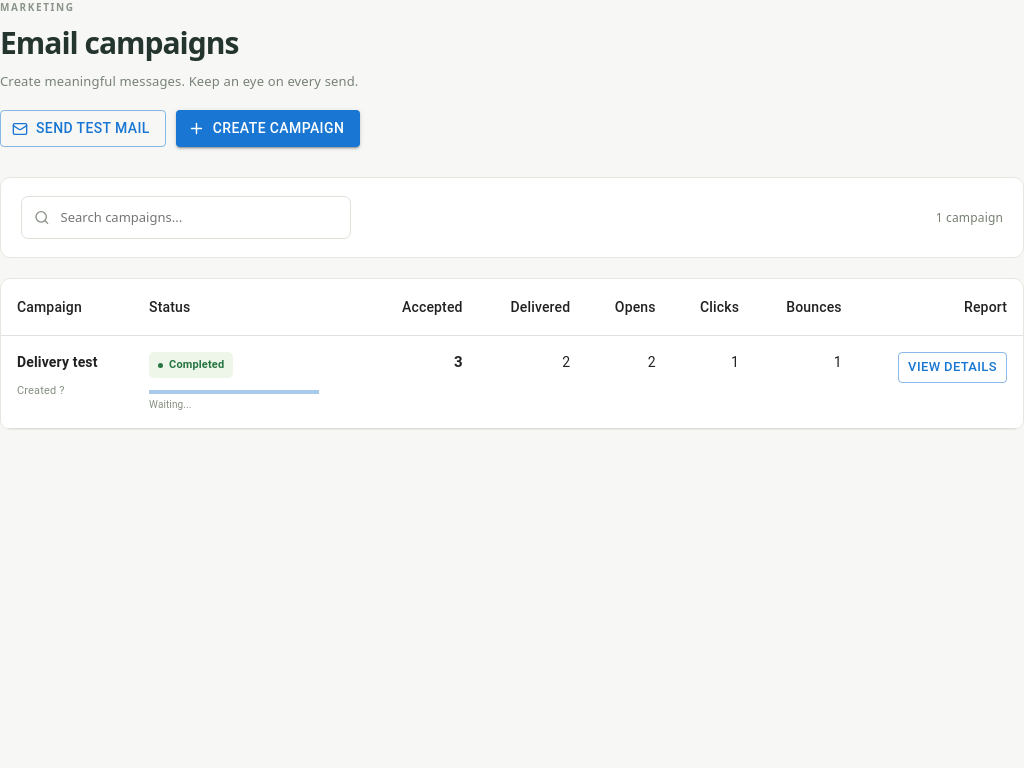
Scenario: campaign reports show real delivery metrics, SMTP reasons, and the privacy limitation
Click the button "View Details". click: click(953, 368)
box: [898,352,1007,383]
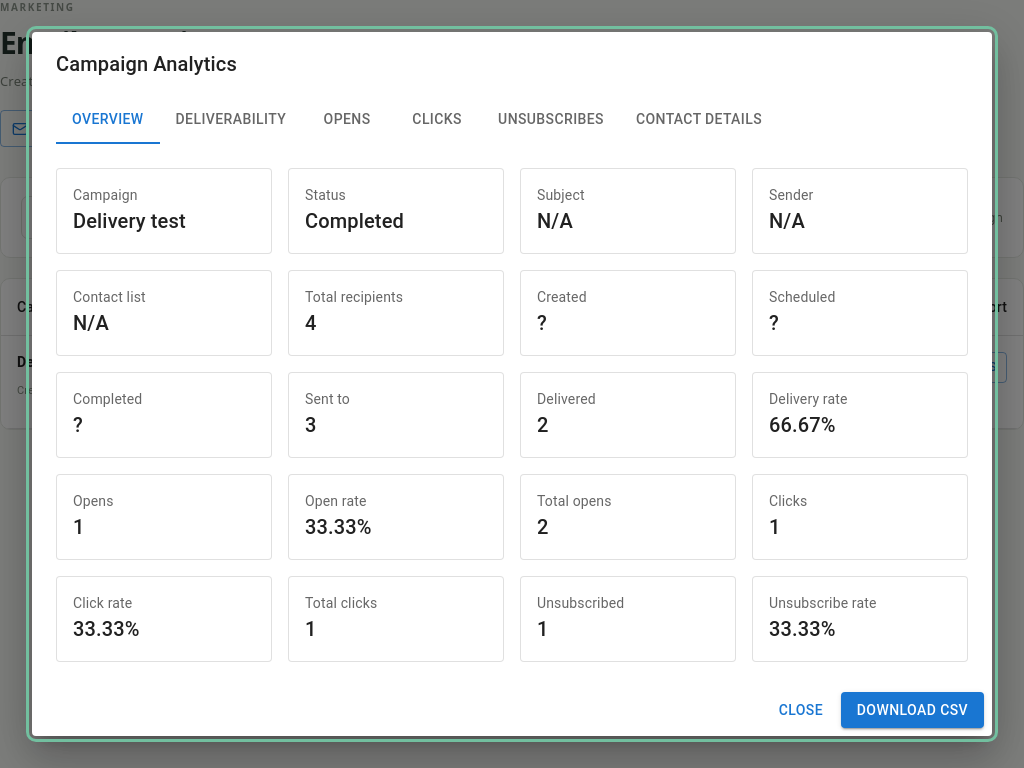
Click the tab "Opens". click: click(347, 120)
box: [302,96,392,144]
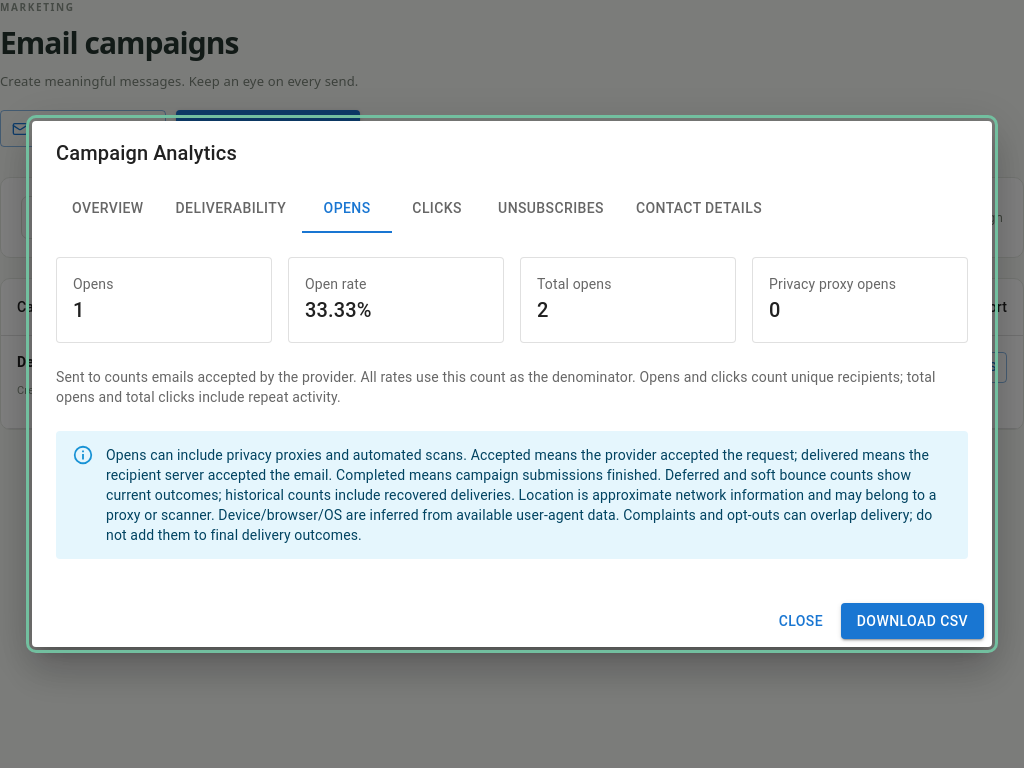
expect the text "Total opens" is shown: met, box [537,276,612,292]
Click the tab "Clicks". click: click(437, 209)
box: [392,185,482,233]
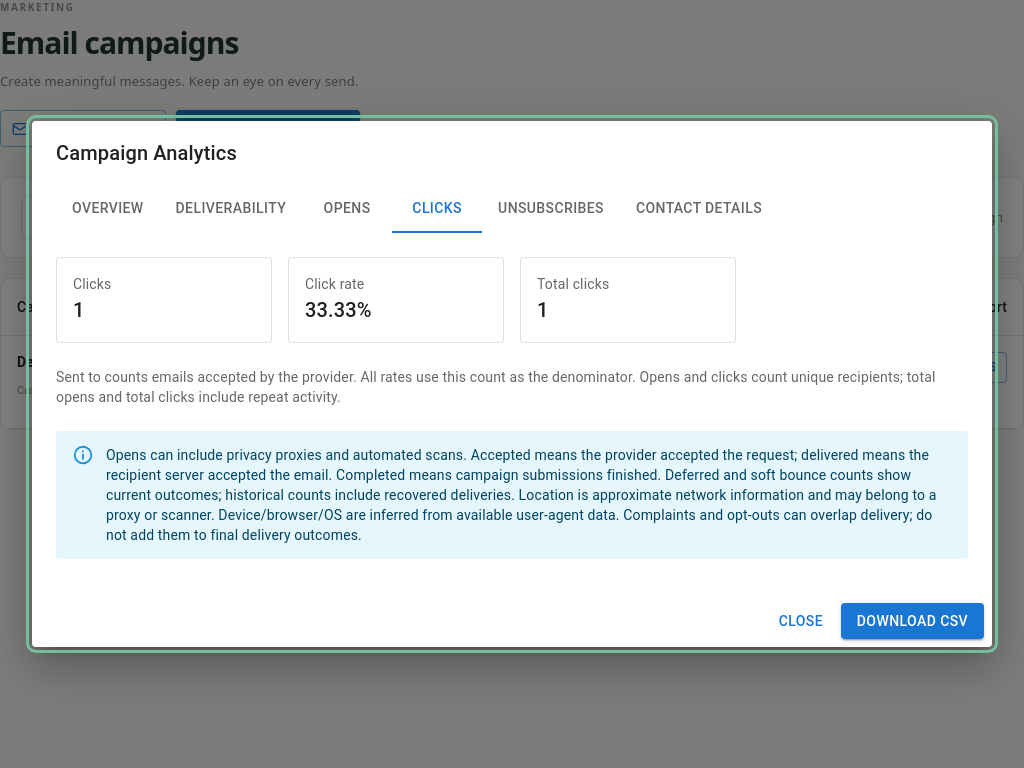
expect the text "Total clicks" is shown: met, box [537,276,609,292]
Click the tab "Unsubscribes". click: click(551, 209)
box: [482,185,620,233]
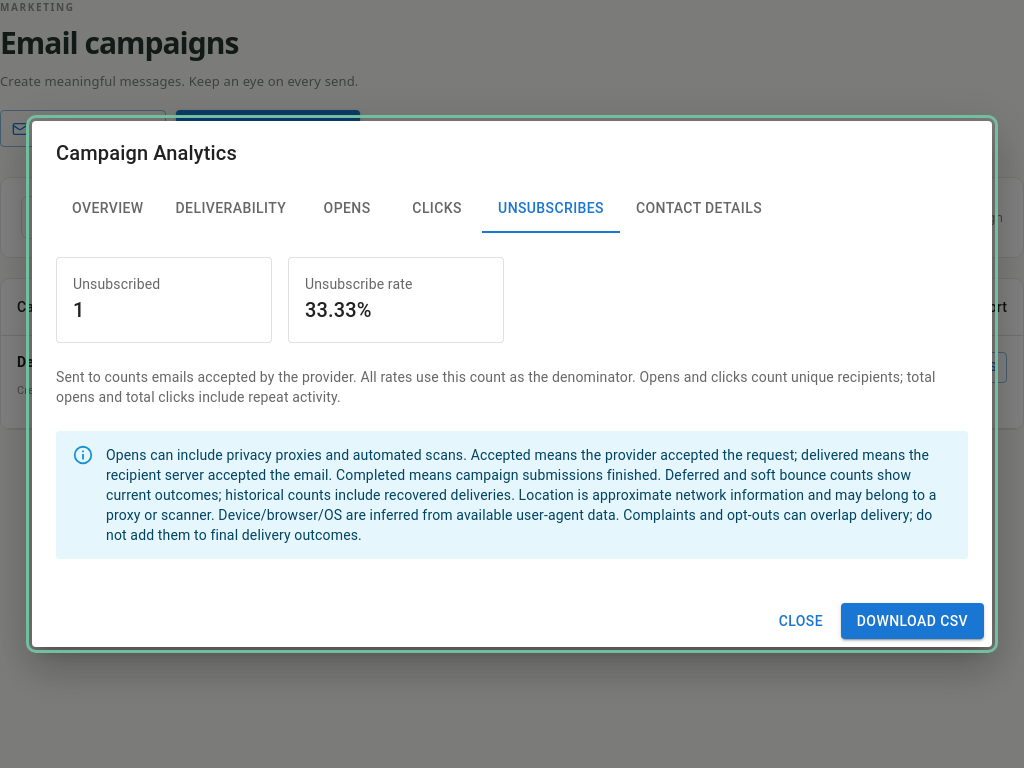
expect the text "Unsubscribe rate" is shown: met, box [305,276,413,292]
Click the tab "Deliverability". click: click(231, 209)
box: [160,185,302,233]
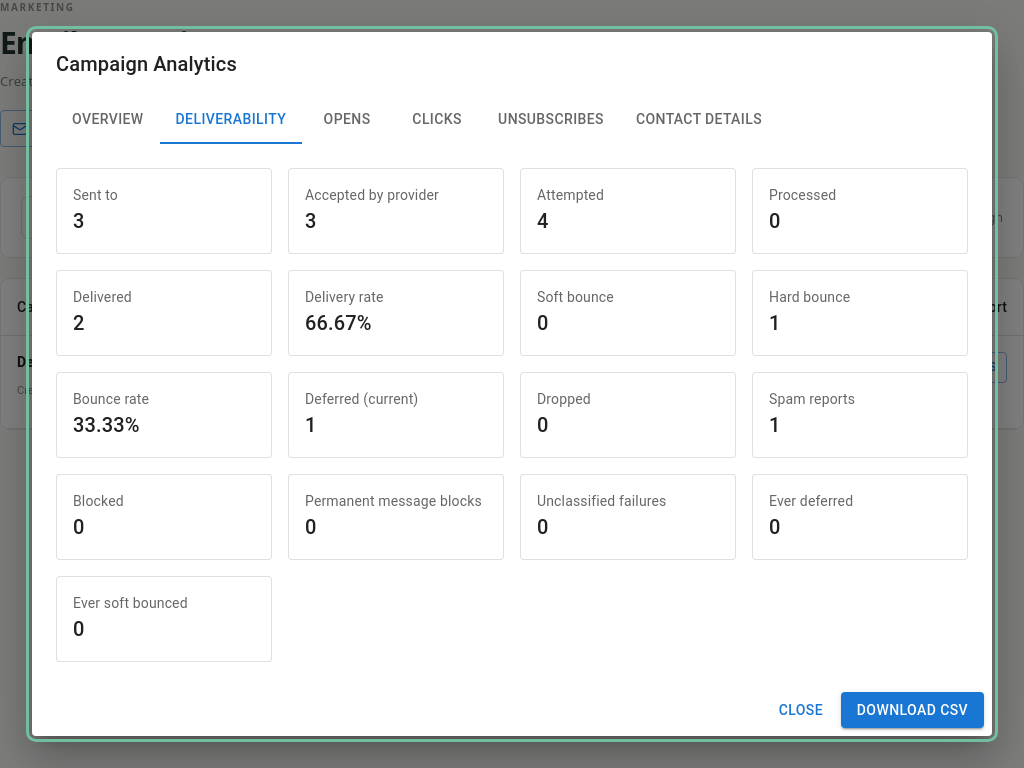
expect the text "Accepted by provider" is shown: met, box [305,187,439,203]
expect the heading "66.67%" is shown: met, box [305,311,372,335]
expect the text "Deferred (current)" is shown: met, box [305,391,418,407]
Click the tab "Contact details". click: click(699, 120)
box: [620,96,778,144]
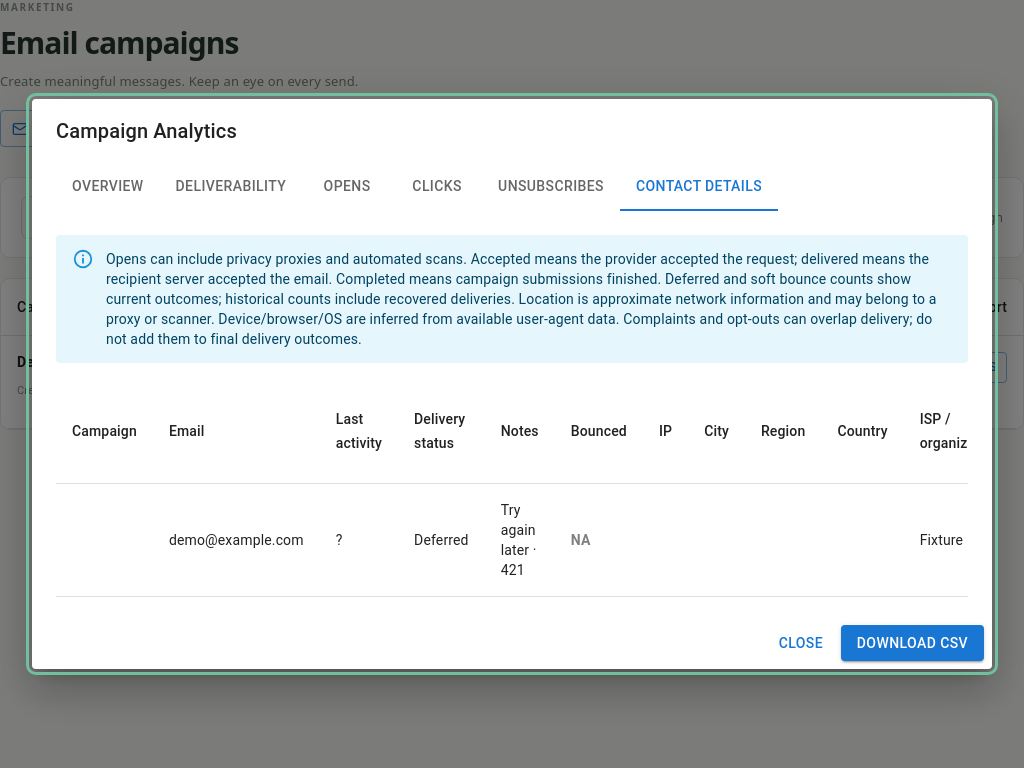
expect the text "Deferred" is shown: met, box [398,483,485,596]
expect the column heading "Last activity" is shown: met, box [320,379,398,483]
expect the text "Try again later · 421" is shown: met, box [485,483,555,596]
